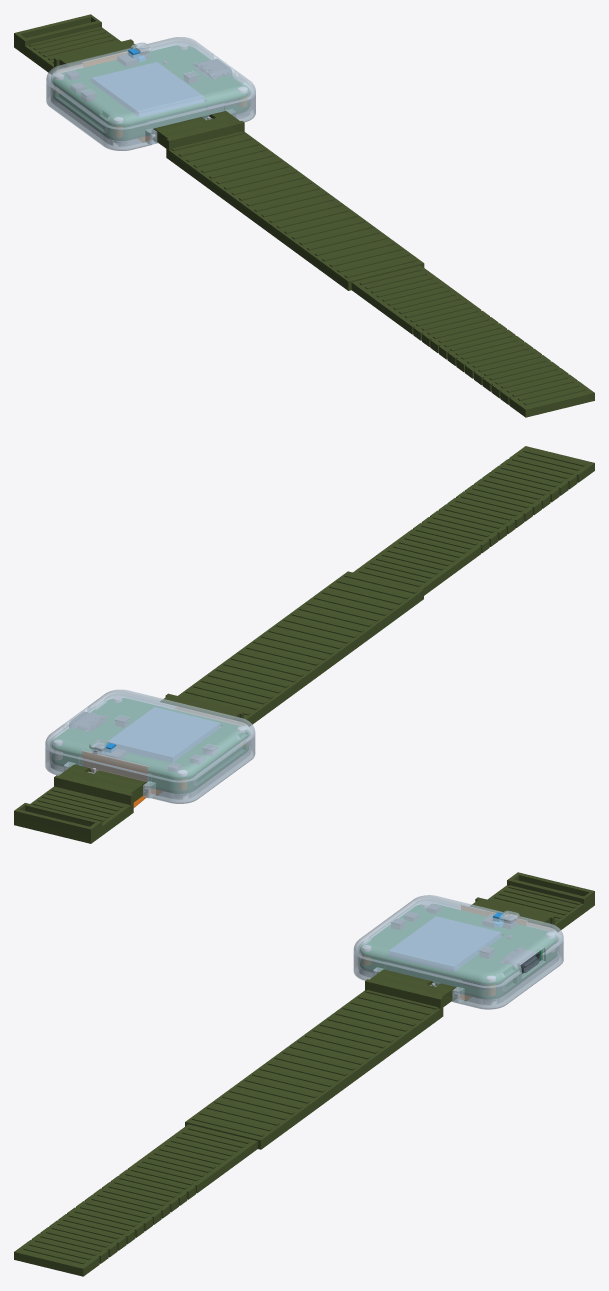
File: watch_military_green_strap.glb
3 renders of one model, top to bottom at view 1: azimuth 30°, elevation 25°; view 2: azimuth 150°, elevation 25°; view 3: azimuth 330°, elevation 25°, orthographic.
Visible parts, largest first — view 1: strap_military_green_south, cover, MCU_board, strap_military_green_north, tray, battery_302025_max, D17_board; view 2: strap_military_green_south, cover, strap_military_green_north, MCU_board, tray, battery_302025_max, D17_board, FPC_ANT_2G4; view 3: strap_military_green_south, cover, MCU_board, strap_military_green_north, tray, battery_302025_max, D17_board, MCU_USB_J400.
Boxes of the visible parts, bbox=[...] form: strap_military_green_south: bbox=[152, 111, 594, 417]; cover: bbox=[46, 37, 255, 129]; MCU_board: bbox=[53, 45, 249, 126]; strap_military_green_north: bbox=[14, 14, 136, 74]; tray: bbox=[46, 75, 255, 150]; battery_302025_max: bbox=[92, 62, 203, 117]; D17_board: bbox=[53, 91, 248, 140]; strap_military_green_south: bbox=[160, 446, 594, 726]; cover: bbox=[45, 689, 255, 782]; strap_military_green_north: bbox=[14, 764, 148, 843]; MCU_board: bbox=[52, 698, 248, 779]; tray: bbox=[45, 728, 255, 803]; battery_302025_max: bbox=[107, 707, 219, 762]; D17_board: bbox=[52, 744, 248, 793]; FPC_ANT_2G4: bbox=[82, 751, 147, 780]; strap_military_green_south: bbox=[14, 969, 457, 1276]; cover: bbox=[353, 895, 563, 987]; MCU_board: bbox=[360, 904, 556, 984]; strap_military_green_north: bbox=[470, 872, 594, 931]; tray: bbox=[353, 934, 563, 1009]; battery_302025_max: bbox=[389, 916, 501, 971]; D17_board: bbox=[360, 950, 556, 998]; MCU_USB_J400: bbox=[500, 947, 540, 972].
Size of the model in its own units: 0.046 by 0.0108 by 0.269.
